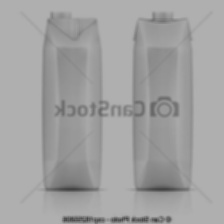carton: (130, 8, 195, 192), (39, 12, 103, 195)
